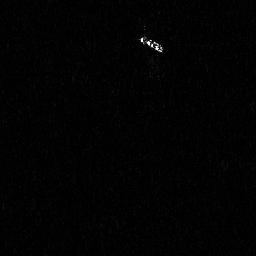ship: (139, 35, 165, 54)
